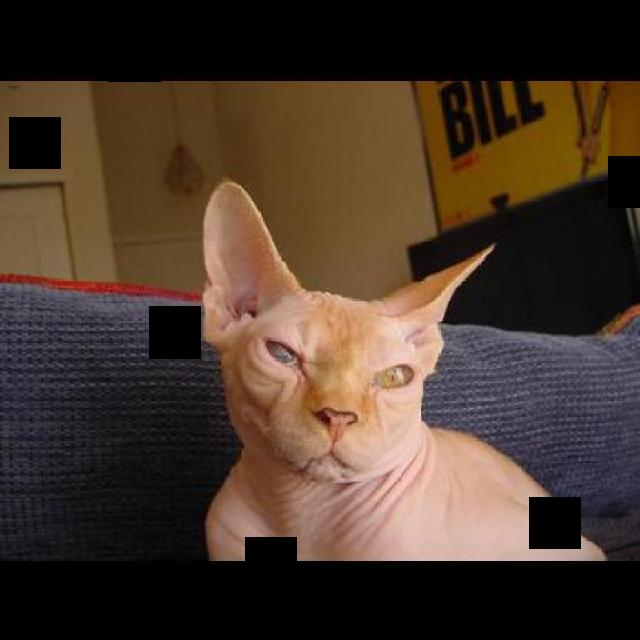unauthorized: (197, 177, 609, 560)
